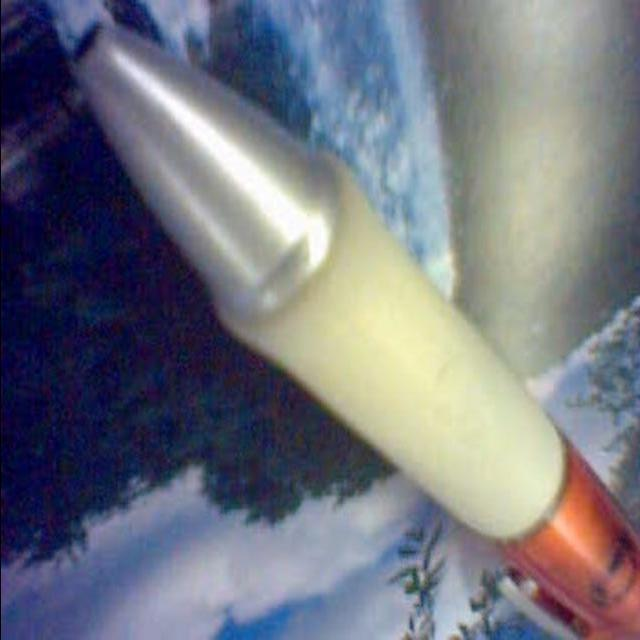Missile: (71, 27, 640, 640)
